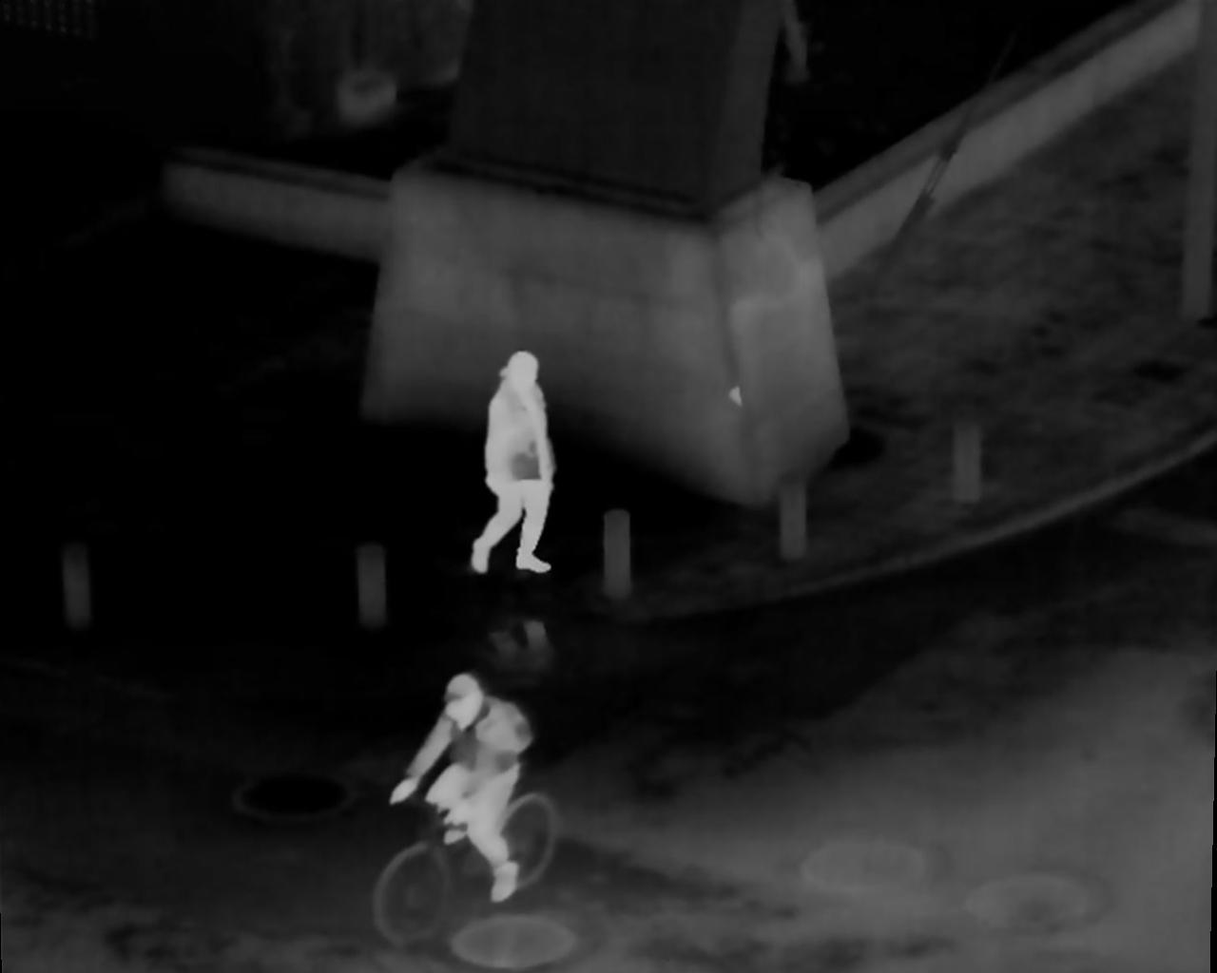person: (383, 678, 537, 900), (469, 345, 557, 579)
